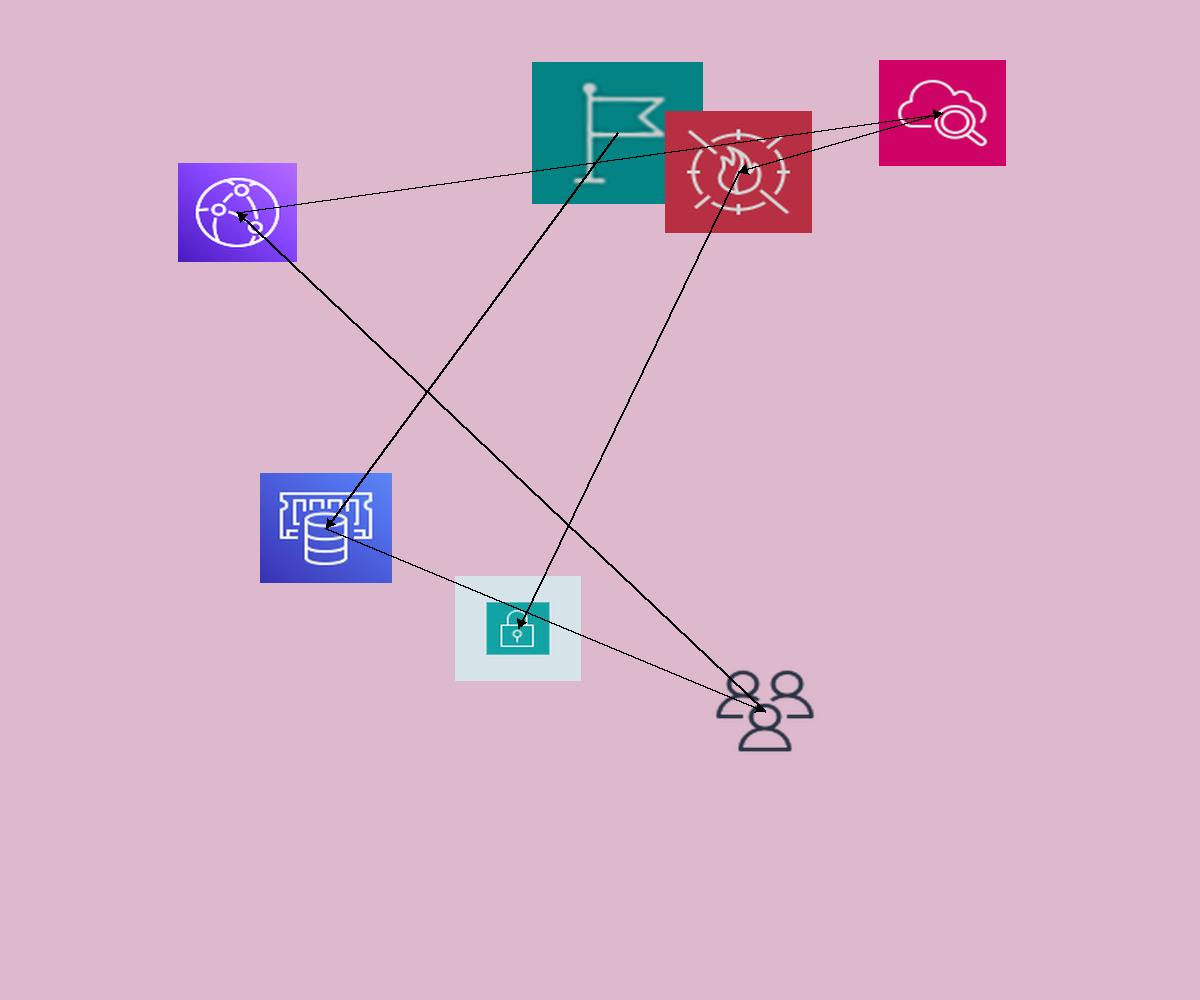AWS-CloudFront: (178, 163, 297, 262)
AWS-CloudWatch: (879, 60, 1006, 166)
AWS-ElastiCache: (260, 473, 392, 583)
AWS-Private-subnet: (455, 576, 581, 681)
AWS-Region: (532, 62, 703, 204)
AWS-Res_Users: (712, 667, 818, 755)
AWS-WAF: (665, 111, 812, 233)
